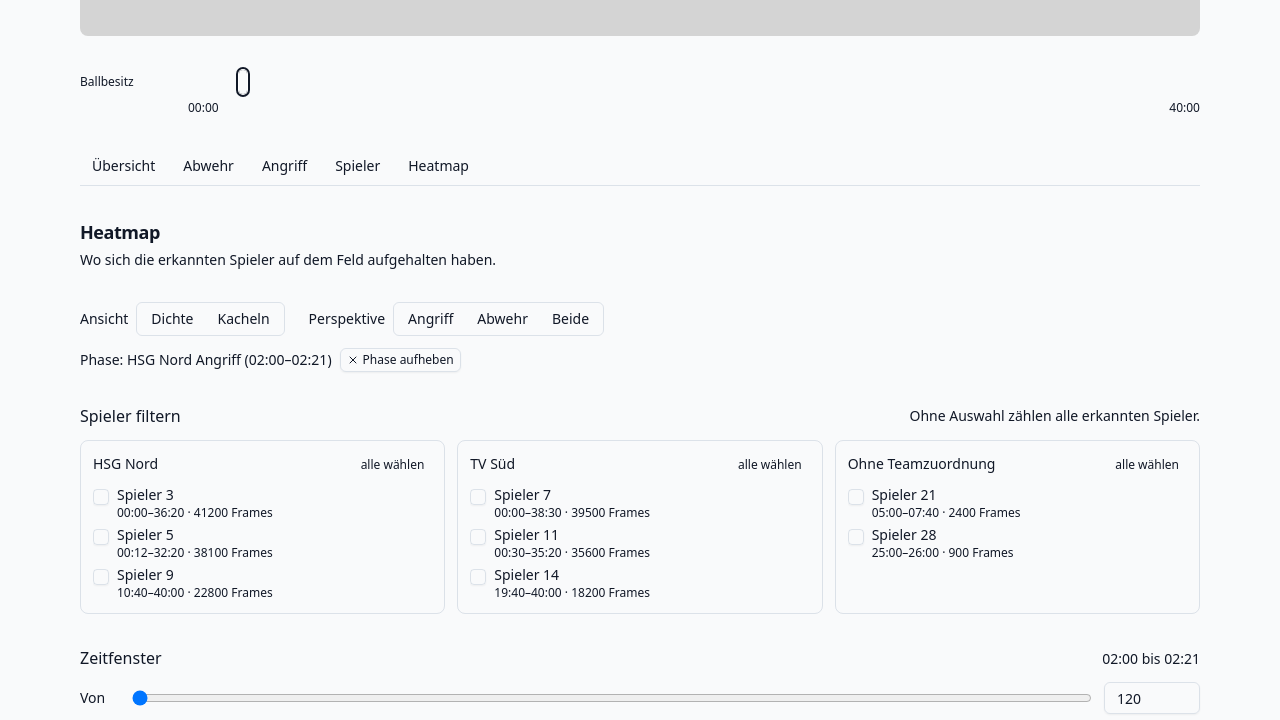
Test: heatmap section › drops the phase filter again, and the video with it
(page scrolled)
Click the button "Phase aufheben" at (400, 360), box [340, 348, 461, 372]
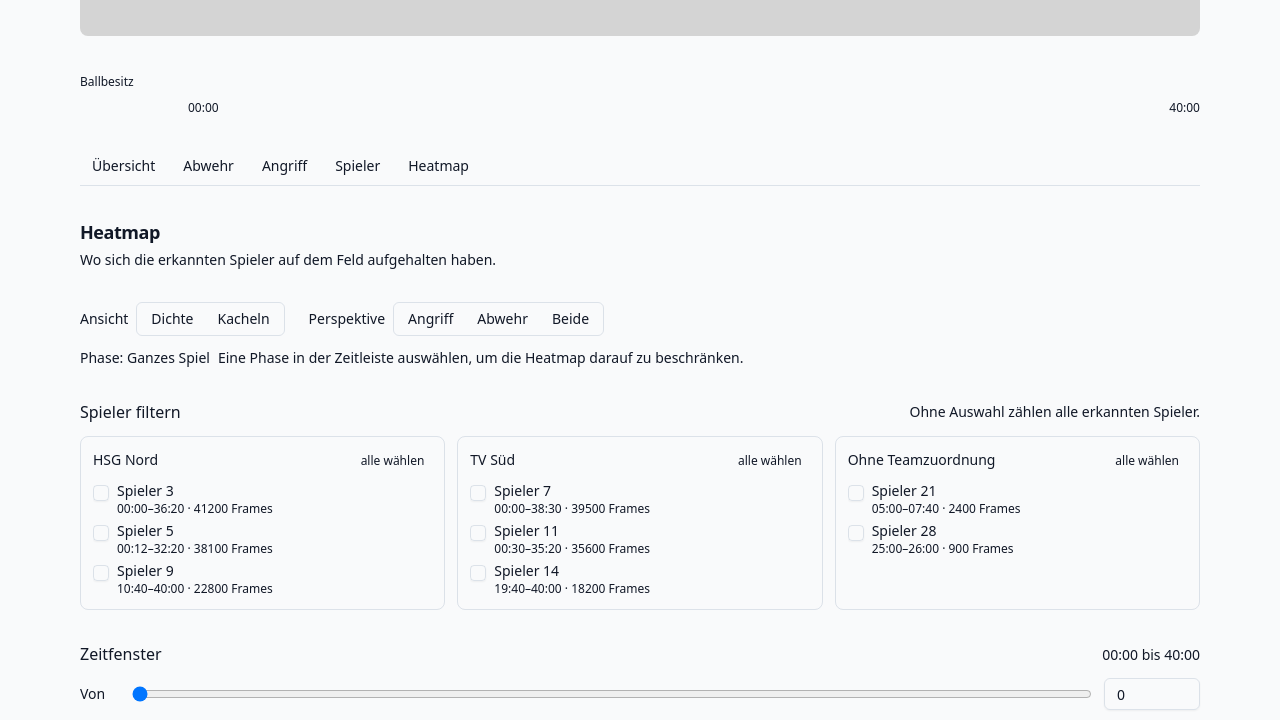
Now the text "Ganzes Spiel" is shown, box [127, 348, 210, 367]
